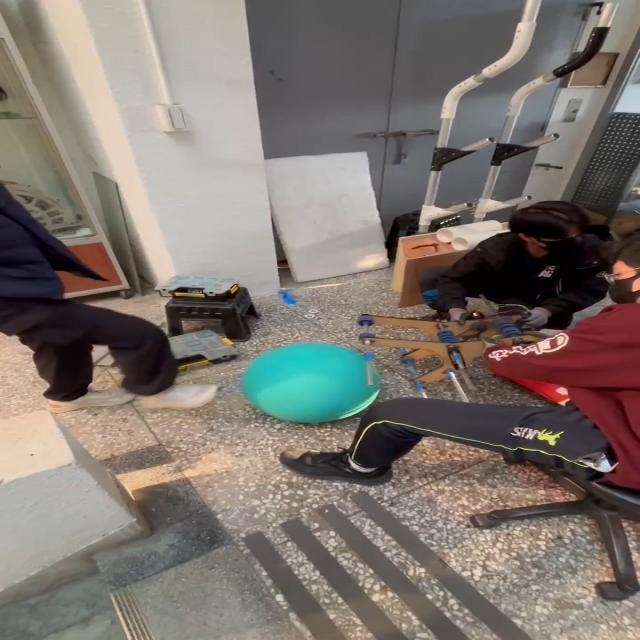ALGAE: (238, 341, 382, 425)
